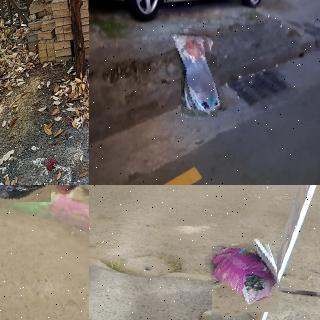Garbage: (208, 241, 281, 317), (176, 27, 224, 120), (0, 185, 54, 206)
